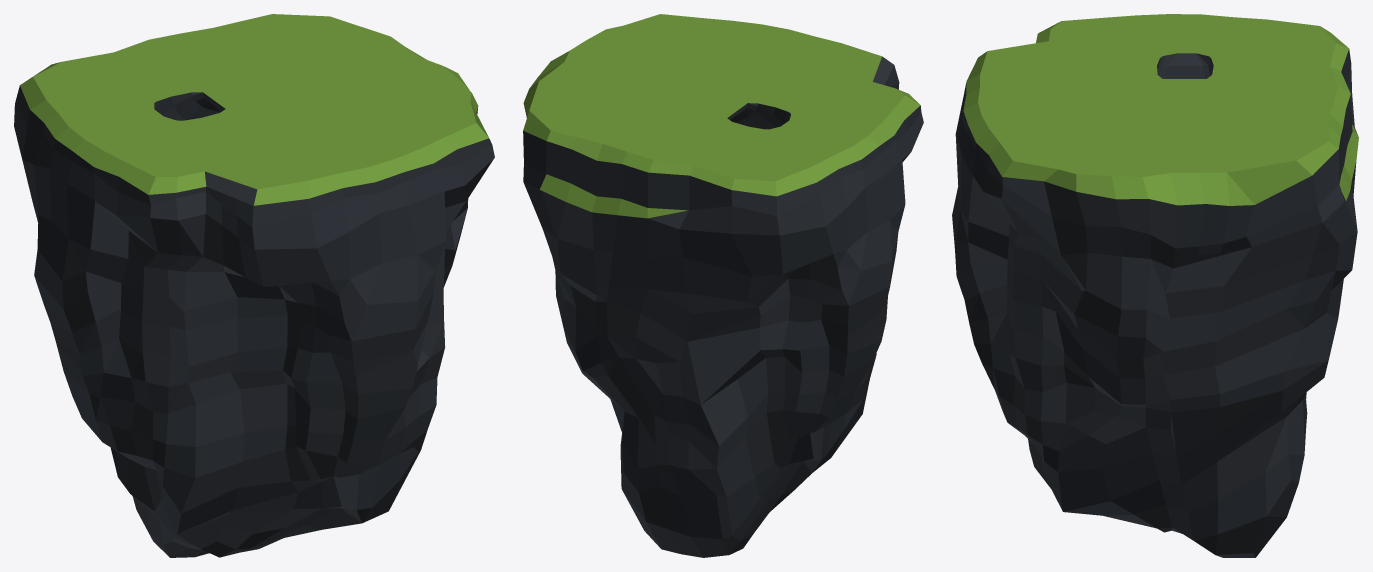
Rendered from CaveIsland.fbx.
3 renders of one model, left to right at view 1: azimuth 30°, elevation 25°; view 2: azimuth 150°, elevation 25°; view 3: azimuth 270°, elevation 25°, orthographic. The views are drawn at different scales.
Visible parts, largest first — view 1: RuinIslandBig; view 2: RuinIslandBig; view 3: RuinIslandBig.
Part boxes in pixels (x1,y1,x2,y2): RuinIslandBig: (14,14,494,557); RuinIslandBig: (523,14,923,557); RuinIslandBig: (952,14,1358,557).
Bounding box in the file's own units: 8001 × 9305 × 7512.
